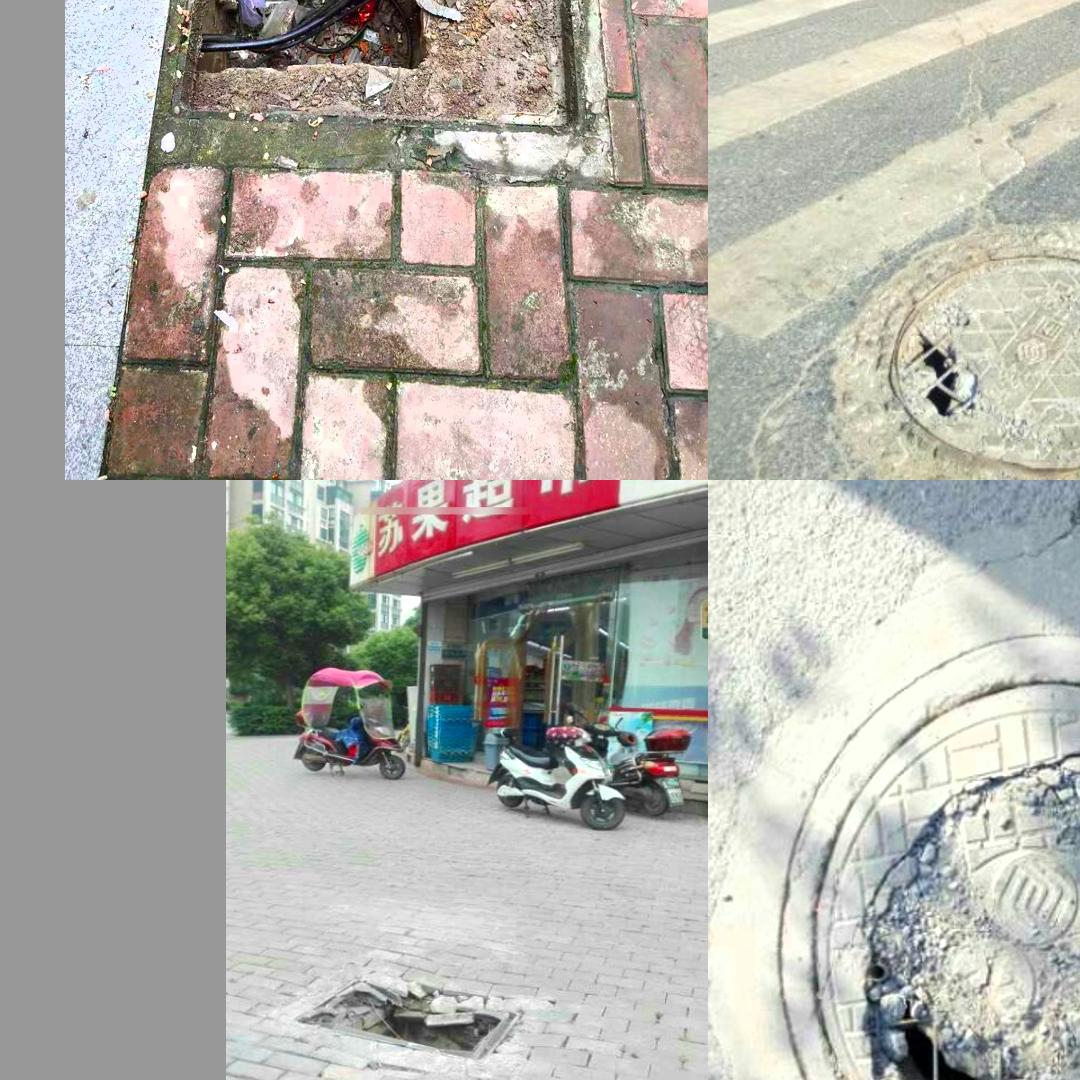broke: (779, 634, 1080, 1080), (162, 0, 589, 131), (879, 243, 1080, 480), (293, 970, 524, 1066)
